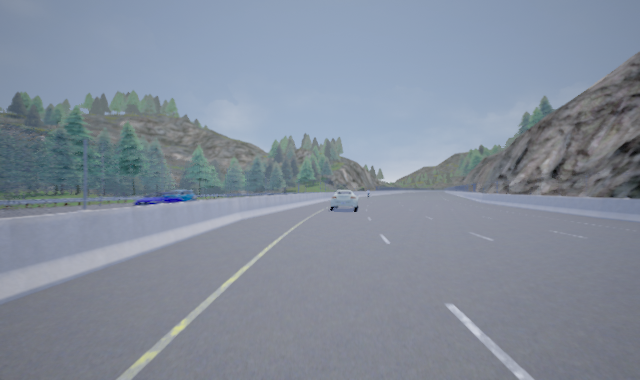vehicle: (134, 192, 186, 211), (328, 189, 359, 212)
